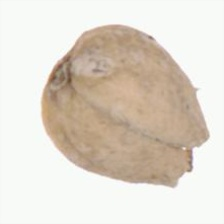L1: (174, 129, 212, 189), (43, 48, 74, 90)
L2: (41, 23, 211, 187)
